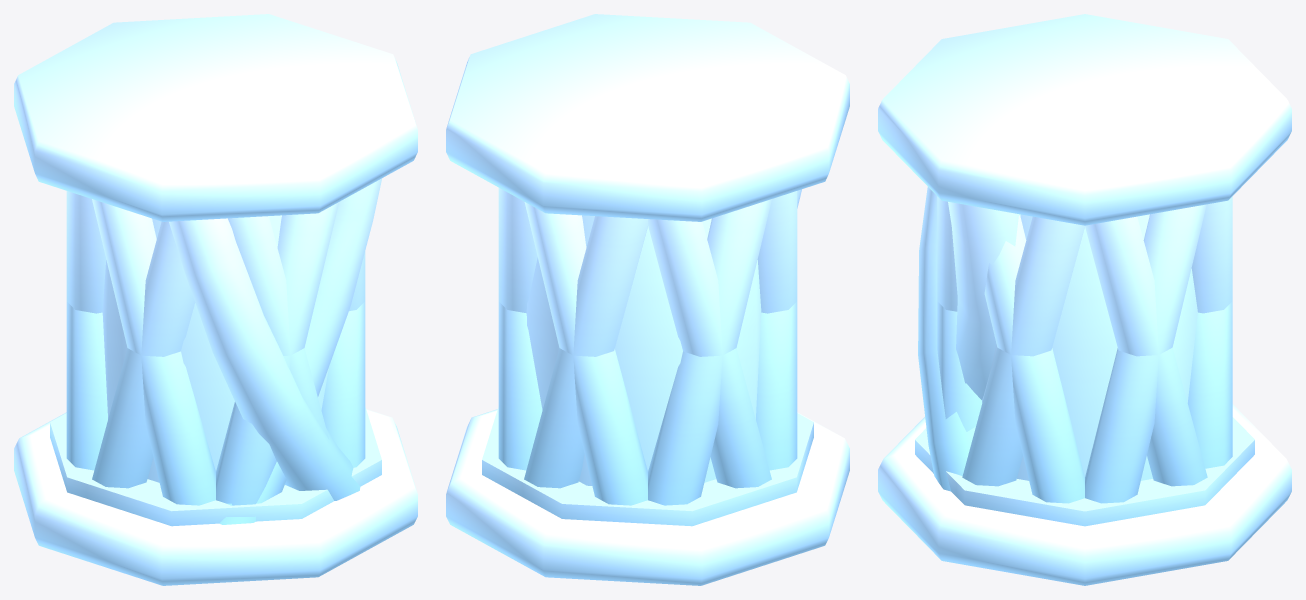
Rendered from steel_grip_033.glb.
The picture shows the model from 3 angles, left to right: view 1: azimuth 30°, elevation 25°; view 2: azimuth 150°, elevation 25°; view 3: azimuth 270°, elevation 25°; orthographic projection.
Visible parts, largest first — view 1: steel_grip_033; view 2: steel_grip_033; view 3: steel_grip_033.
Part boxes in pixels (x1,y1,x2,y2): steel_grip_033: (14,14,417,585); steel_grip_033: (446,14,849,585); steel_grip_033: (878,14,1291,585).
Size of the model in its own units: 2.89 by 3.17 by 2.89.
1 material, 1 textured.
